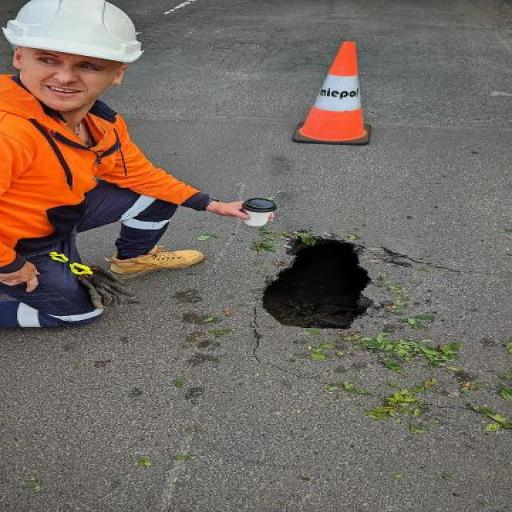Concentric_Crack: (263, 233, 370, 328)
